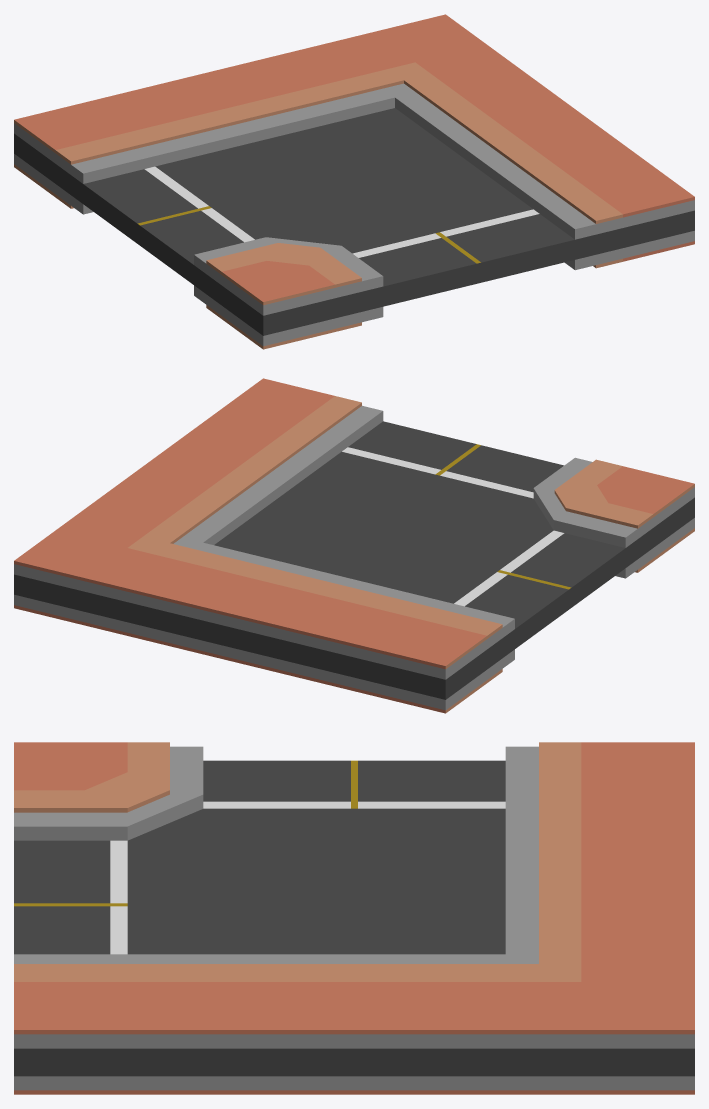
File: Road 5.fbx
3 views of the same model, one above another, from view 1: azimuth 30°, elevation 25°; view 2: azimuth 150°, elevation 25°; view 3: azimuth 270°, elevation 25° (orthographic). The views are drawn at different scales.
Parts seen in each view (by area): view 1: Road 5; view 2: Road 5; view 3: Road 5.
Boxes of the visible parts, x1,y1,x2,y2 form: Road 5: [14, 14, 694, 349]; Road 5: [14, 378, 694, 713]; Road 5: [14, 742, 694, 1094].
Bounding box in the file's own units: 12.36 × 12.36 × 1.3.
